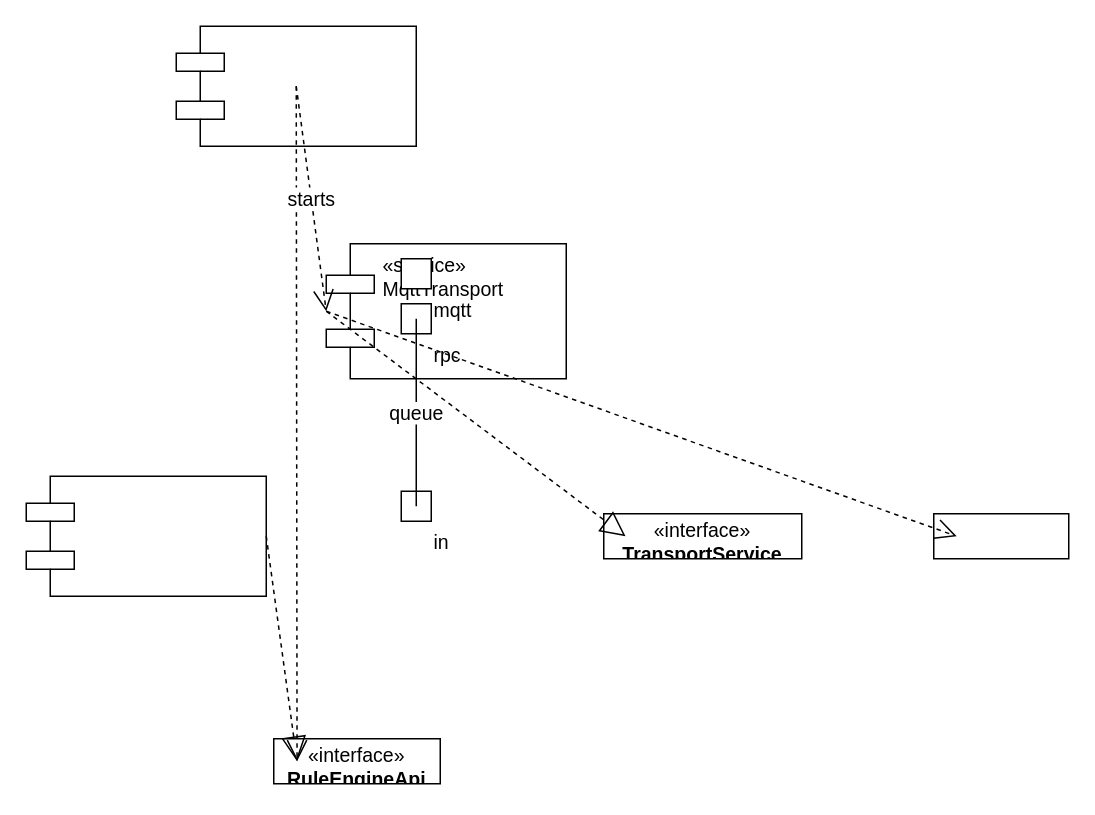
This 1095x815 diagram has some shape labels left out. The centre of each missing label's shape, as x and y in pixels:
Core: (x=295, y=85)
RuleEngine: (x=145, y=535)
«interface» DeviceAuth: (x=1000, y=535)
